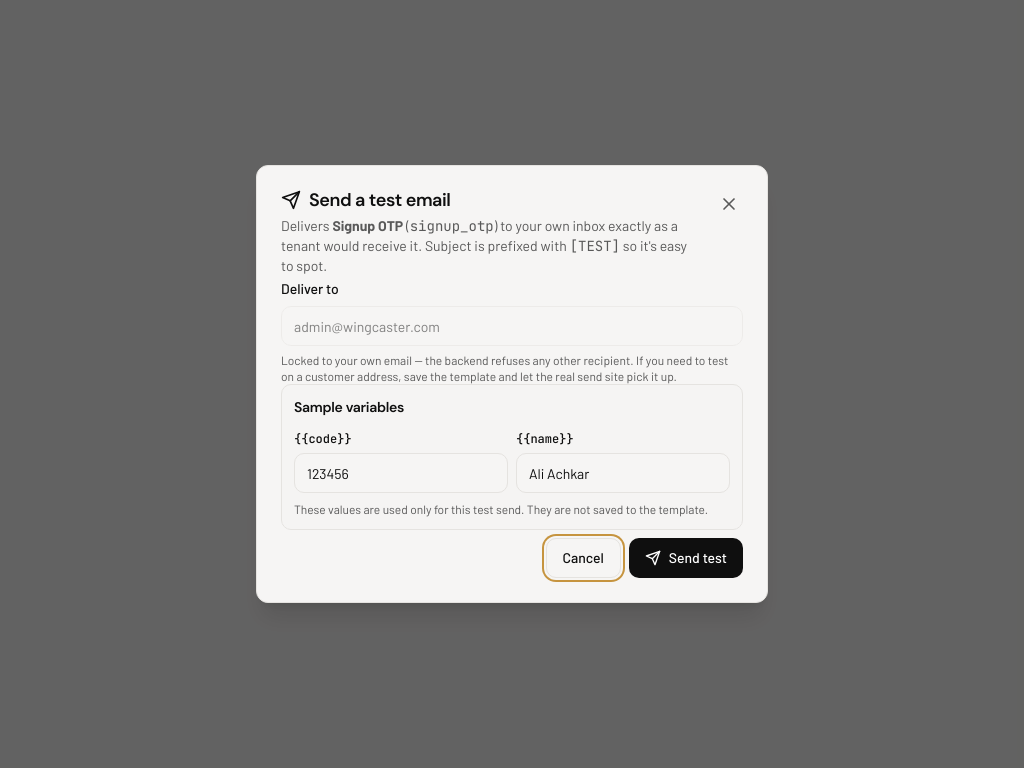
Test case: sending › surfaces a failure as role=alert preserving the error code
Click the button "Send test". click: (686, 558)
box: [629,538,743,578]
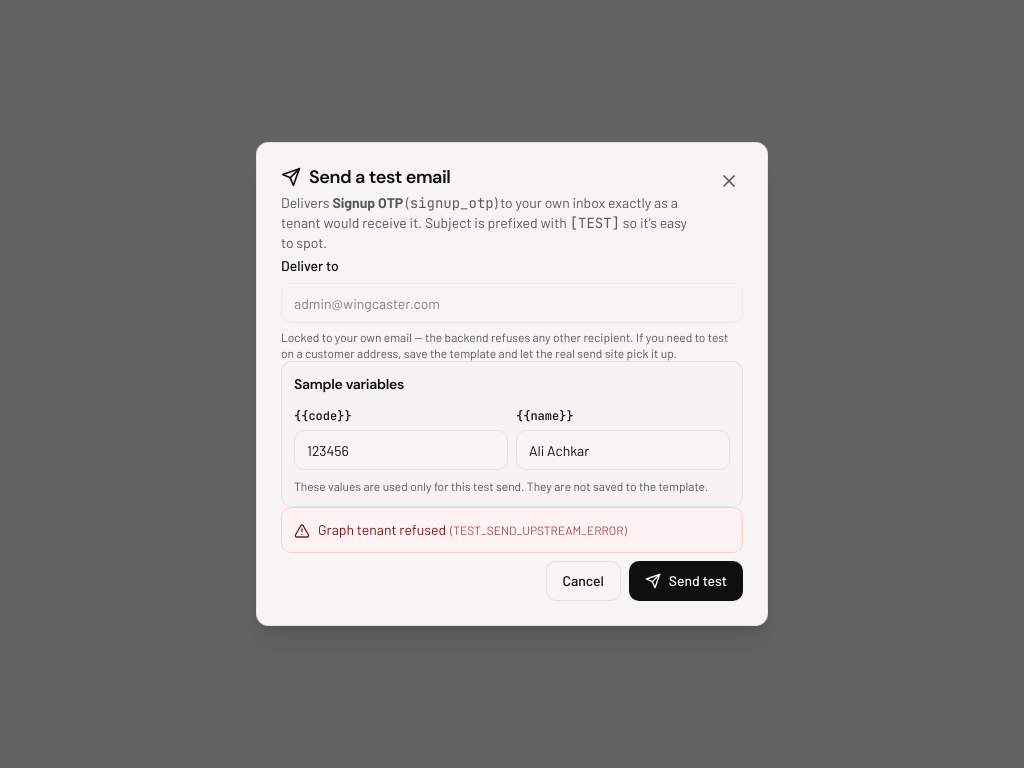
Expected: the button "Send test" is enabled, [629,561,743,601]
Now the message shows "Graph tenant refused", box [318,521,446,538]
Now the message shows "TEST_SEND_UPSTREAM_ERROR", box [453,523,624,537]
